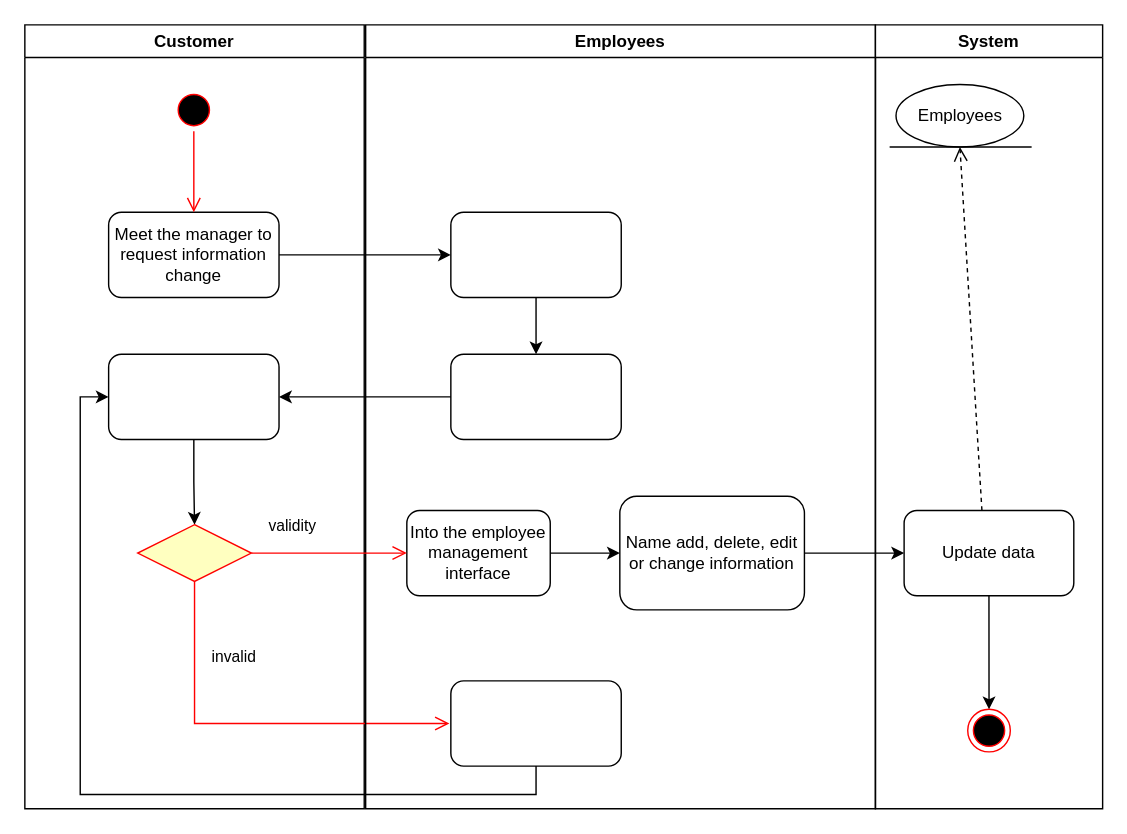
Image size: 1127x834. Some labels were removed from this diagram. Here are the shapes that lost their labels. From the top down, the box of each, then its label:
(449, 211, 621, 297): Requirement accepted
(107, 353, 279, 439): Provide information
(449, 353, 621, 439): Request for information
(449, 679, 621, 766): Invalid information notification
